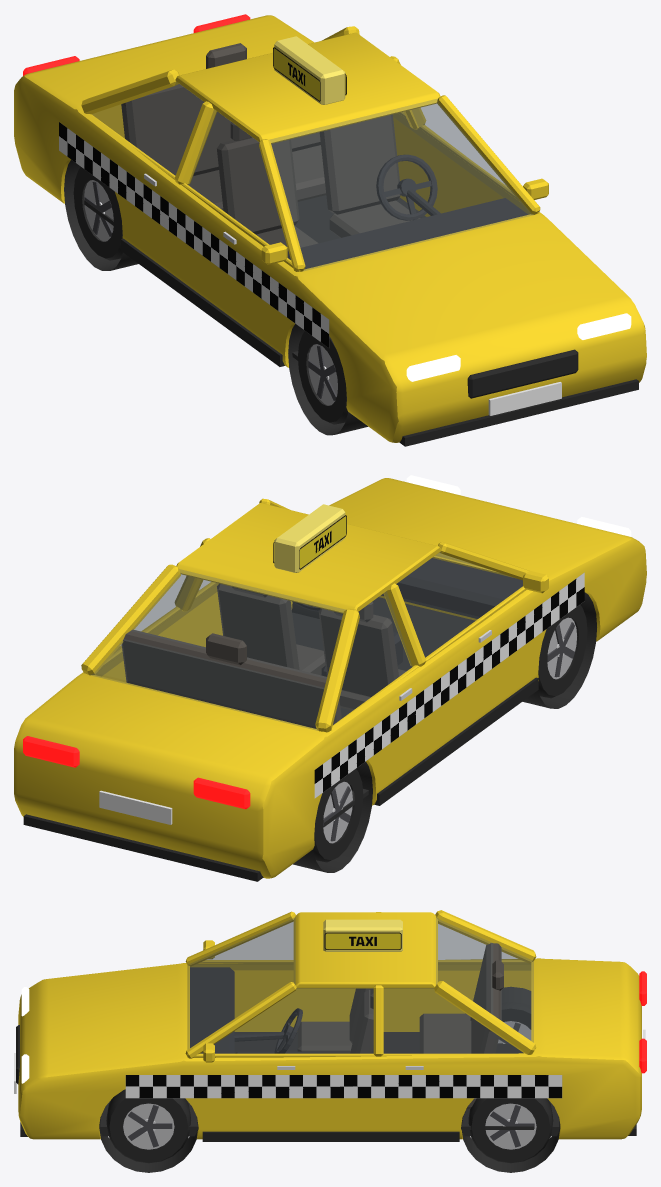
File: taxi_yellow.glb
The picture shows the model from 3 angles, top to bottom: view 1: azimuth 30°, elevation 25°; view 2: azimuth 150°, elevation 25°; view 3: azimuth 270°, elevation 25°; orthographic projection. The views are drawn at different scales.
Visible parts, largest first — view 1: taxi_yellow_body, glass, wheel_FR, wheel_RR, steering_wheel; view 2: taxi_yellow_body, glass, wheel_FR, wheel_RR; view 3: taxi_yellow_body, glass, wheel_FL, wheel_RL, wheel_RR, steering_wheel.
Part boxes in pixels (x1,y1,x2,y2): taxi_yellow_body: (14,14,646,446); glass: (92,82,533,270); wheel_FR: (298,331,347,424); wheel_RR: (73,167,122,260); steering_wheel: (376,154,437,220); taxi_yellow_body: (14,475,646,881); glass: (91,552,522,730); wheel_FR: (538,605,587,698); wheel_RR: (313,769,363,862); taxi_yellow_body: (14,910,646,1172); glass: (187,917,533,1053); wheel_FL: (106,1089,190,1163); wheel_RL: (468,1098,553,1163); wheel_RR: (498,1002,531,1043); steering_wheel: (274,1008,302,1053).
Bounding box in the file's own units: 2.06 × 1.72 × 4.93.
Materials: 17 (2 with a texture image).
